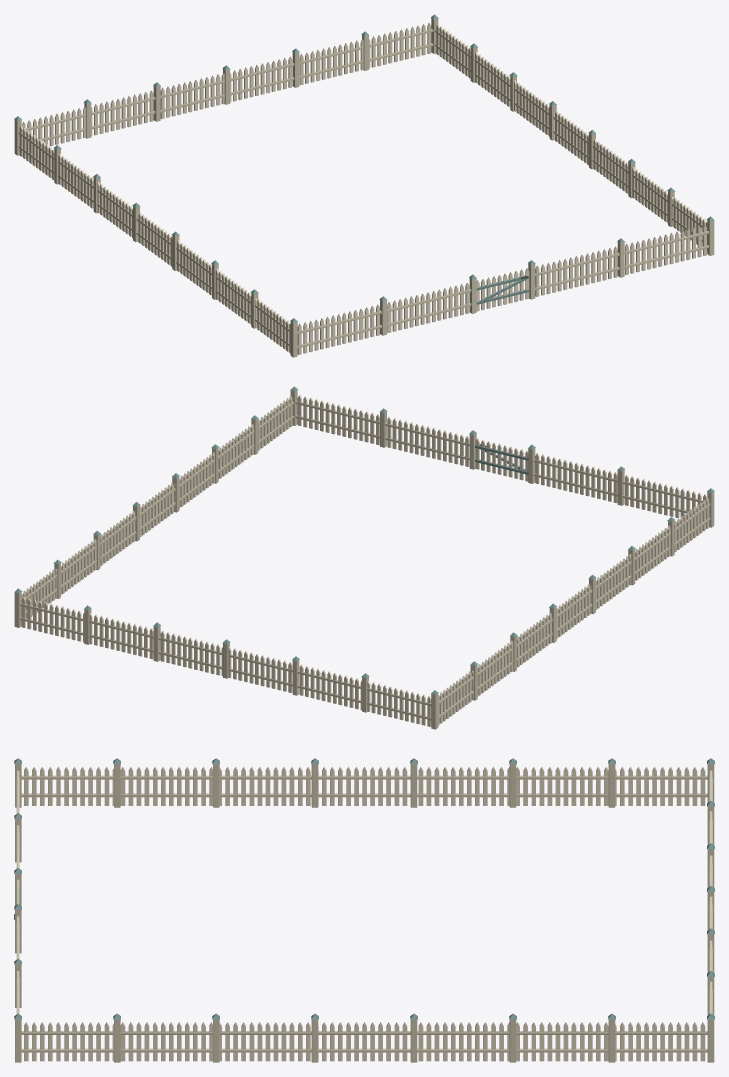
Rendered from SM_MiaHouse_Fence.fbx.
3 renders of one model, top to bottom at view 1: azimuth 30°, elevation 25°; view 2: azimuth 150°, elevation 25°; view 3: azimuth 270°, elevation 25°, orthographic. The views are drawn at different scales.
Parts seen in each view (by area): view 1: EXPORT_BackBoundary_Rail.001, EXPORT_BackBoundary_Rail, EXPORT_LeftBoundary_Rail, EXPORT_LeftBoundary_Rail.001, EXPORT_RightBoundary_Rail.001, EXPORT_RightBoundary_Rail, EXPORT_FrontFenceLeft_Rail, EXPORT_FrontFenceRight_Rail, EXPORT_FrontFenceRight_Rail.001, EXPORT_FrontFenceLeft_Rail.001; view 2: EXPORT_BackBoundary_Rail.001, EXPORT_BackBoundary_Rail, EXPORT_LeftBoundary_Rail, EXPORT_LeftBoundary_Rail.001, EXPORT_RightBoundary_Rail.001, EXPORT_RightBoundary_Rail, EXPORT_FrontFenceRight_Rail, EXPORT_FrontFenceRight_Rail.001, EXPORT_FrontFenceLeft_Rail.001; view 3: EXPORT_LeftBoundary_Rail, EXPORT_LeftBoundary_Rail.001, EXPORT_RightBoundary_Rail, EXPORT_RightBoundary_Rail.001.
Boxes of the visible parts, left/top/right/bottom form: EXPORT_BackBoundary_Rail.001: left=25, top=29, right=433, bottom=130; EXPORT_BackBoundary_Rail: left=39, top=43, right=433, bottom=141; EXPORT_LeftBoundary_Rail: left=18, top=145, right=290, bottom=346; EXPORT_LeftBoundary_Rail.001: left=18, top=131, right=290, bottom=332; EXPORT_RightBoundary_Rail.001: left=435, top=30, right=707, bottom=230; EXPORT_RightBoundary_Rail: left=435, top=44, right=707, bottom=244; EXPORT_FrontFenceLeft_Rail: left=297, top=303, right=471, bottom=348; EXPORT_FrontFenceRight_Rail: left=535, top=245, right=708, bottom=290; EXPORT_FrontFenceRight_Rail.001: left=535, top=231, right=708, bottom=276; EXPORT_FrontFenceLeft_Rail.001: left=297, top=289, right=471, bottom=333; EXPORT_BackBoundary_Rail.001: left=20, top=603, right=431, bottom=705; EXPORT_BackBoundary_Rail: left=20, top=617, right=431, bottom=720; EXPORT_LeftBoundary_Rail: left=438, top=517, right=710, bottom=718; EXPORT_LeftBoundary_Rail.001: left=438, top=503, right=710, bottom=704; EXPORT_RightBoundary_Rail.001: left=25, top=402, right=293, bottom=599; EXPORT_RightBoundary_Rail: left=25, top=416, right=293, bottom=614; EXPORT_FrontFenceRight_Rail: left=295, top=415, right=469, bottom=460; EXPORT_FrontFenceRight_Rail.001: left=295, top=401, right=469, bottom=446; EXPORT_FrontFenceLeft_Rail.001: left=533, top=459, right=702, bottom=502; EXPORT_LeftBoundary_Rail: left=21, top=793, right=707, bottom=797; EXPORT_LeftBoundary_Rail.001: left=21, top=775, right=707, bottom=779; EXPORT_RightBoundary_Rail: left=21, top=1048, right=707, bottom=1052; EXPORT_RightBoundary_Rail.001: left=21, top=1031, right=707, bottom=1034.
Bounding box in the file's own units: 1378 × 1578 × 119.
